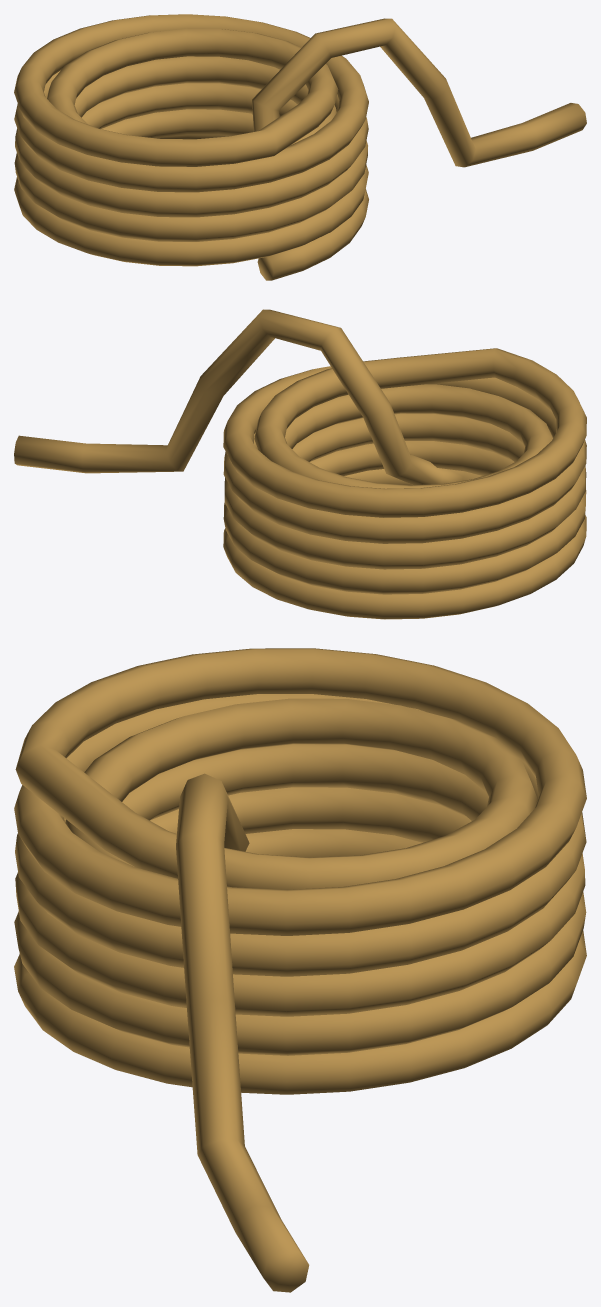
File: Soga.glb
3 renders of one model, top to bottom at view 1: azimuth 30°, elevation 25°; view 2: azimuth 150°, elevation 25°; view 3: azimuth 270°, elevation 25°, orthographic. The views are drawn at different scales.
Parts seen in each view (by area): view 1: Soga; view 2: Soga; view 3: Soga.
Boxes of the visible parts, x1,y1,x2,y2 form: Soga: [14, 14, 586, 280]; Soga: [14, 309, 586, 619]; Soga: [14, 648, 586, 1292].
Bounding box in the file's own units: 1.41 × 0.4601 × 0.807.
